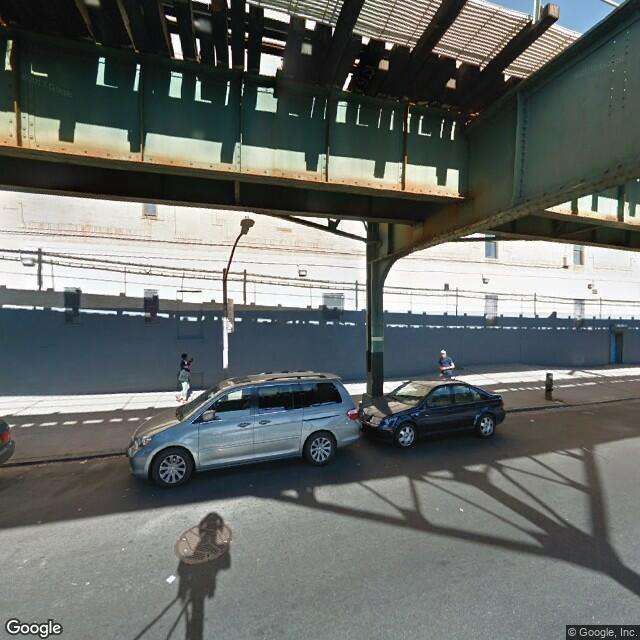litter: (167, 575, 175, 582), (80, 458, 84, 463), (531, 418, 536, 422), (459, 507, 465, 510)
